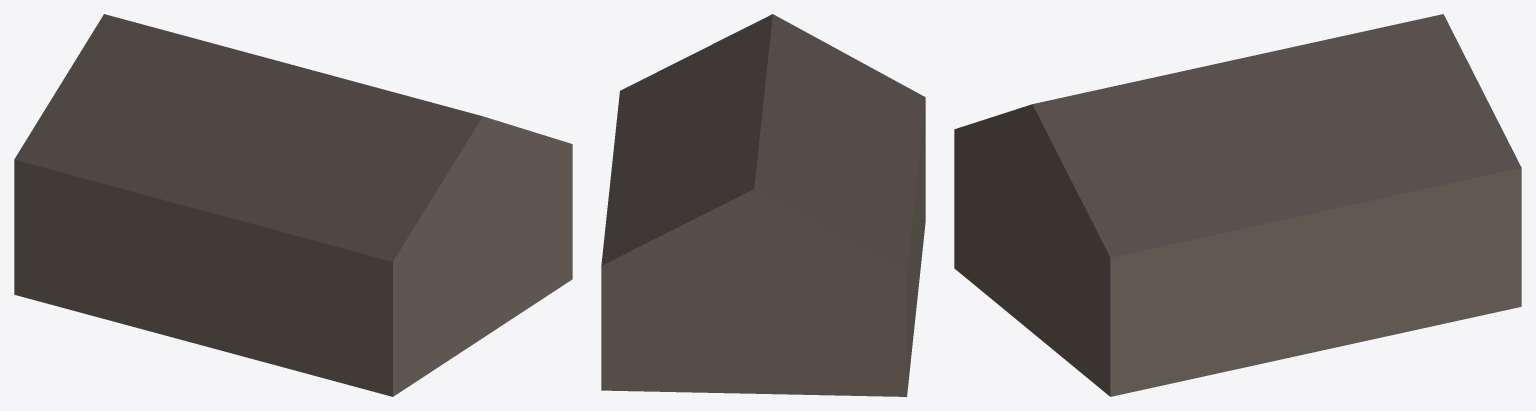
3 renders of one model, left to right at view 1: azimuth 30°, elevation 25°; view 2: azimuth 150°, elevation 25°; view 3: azimuth 270°, elevation 25°, orthographic. The views are drawn at different scales.
Visible parts, largest first — view 1: HP-w859457377; view 2: HP-w859457377; view 3: HP-w859457377.
Boxes of the visible parts, x1,y1,x2,y2 form: HP-w859457377: [14, 14, 572, 396]; HP-w859457377: [601, 14, 925, 396]; HP-w859457377: [954, 14, 1521, 396].
Size of the model in its own units: 20.22 by 9.86 by 22.16.
